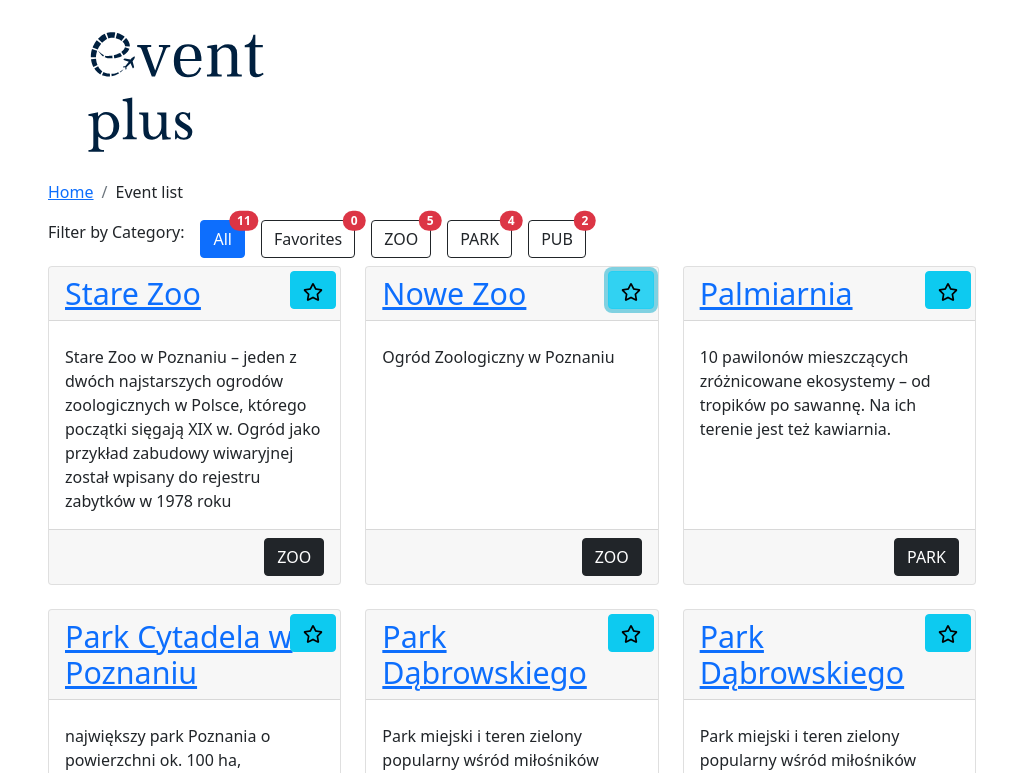
it: event favorites › should filter by favorites
Click the button named "Add Nowe Zoo to favourites".
click(631, 290)  # box [608,271,654,309]
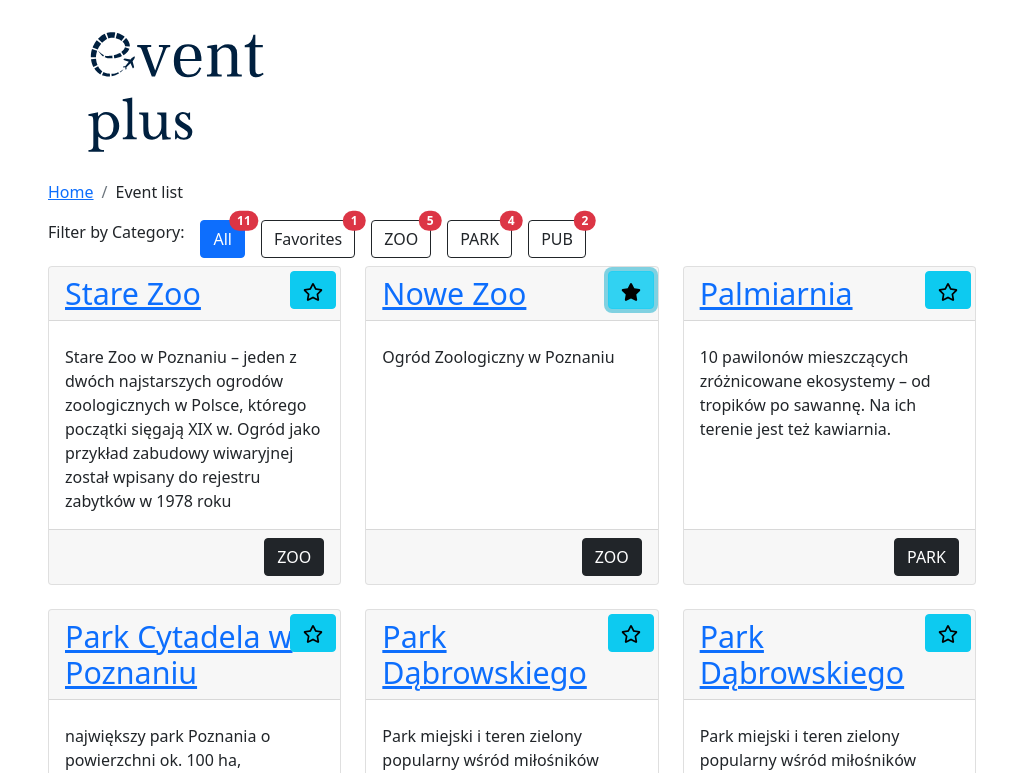
Click the link "Favorites 1".
click(308, 239)  # box [261,220,355,258]
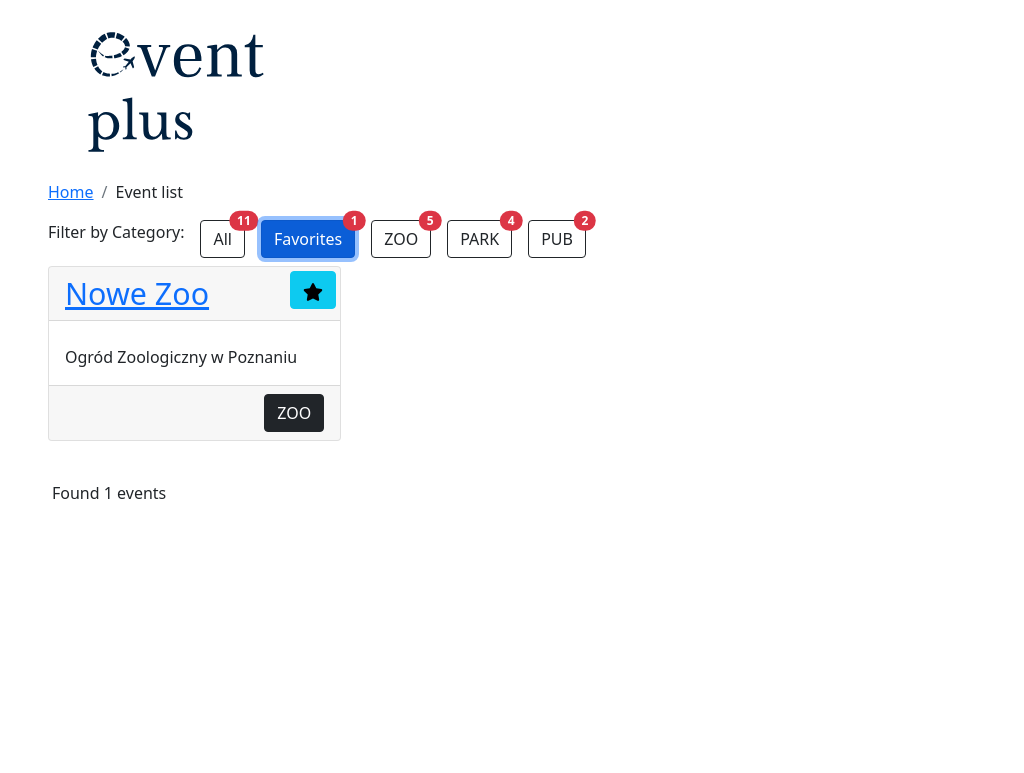
Expected: the heading "Nowe Zoo" is shown, [49,267,340,320]
Expected: the footer with class "ms-1" reads "Found 1 events", [52,482,166,504]
